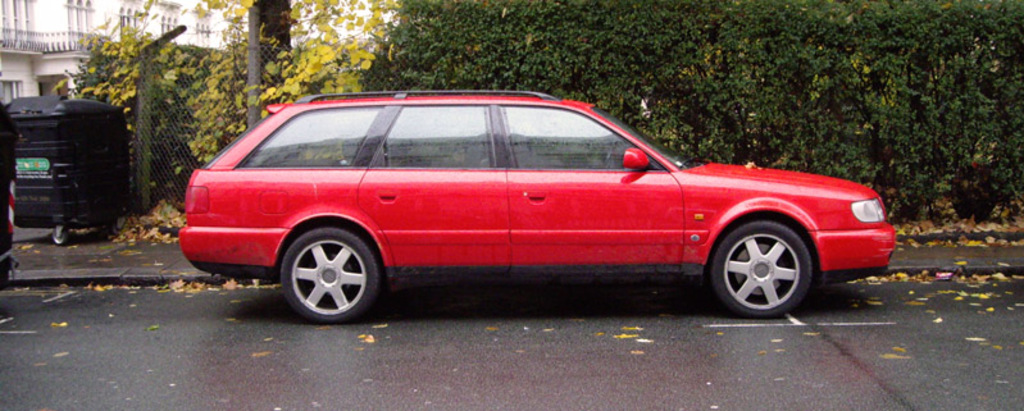Car: (175, 92, 897, 323)
